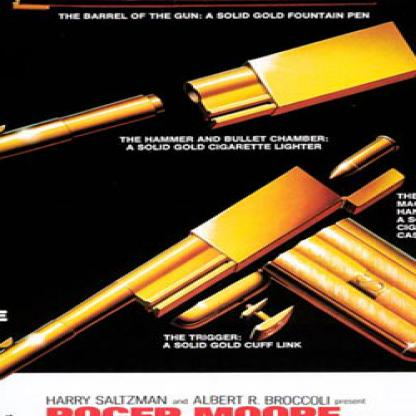gun: (0, 115, 415, 416)
